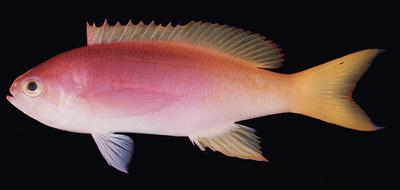fish: (6, 19, 387, 174)
